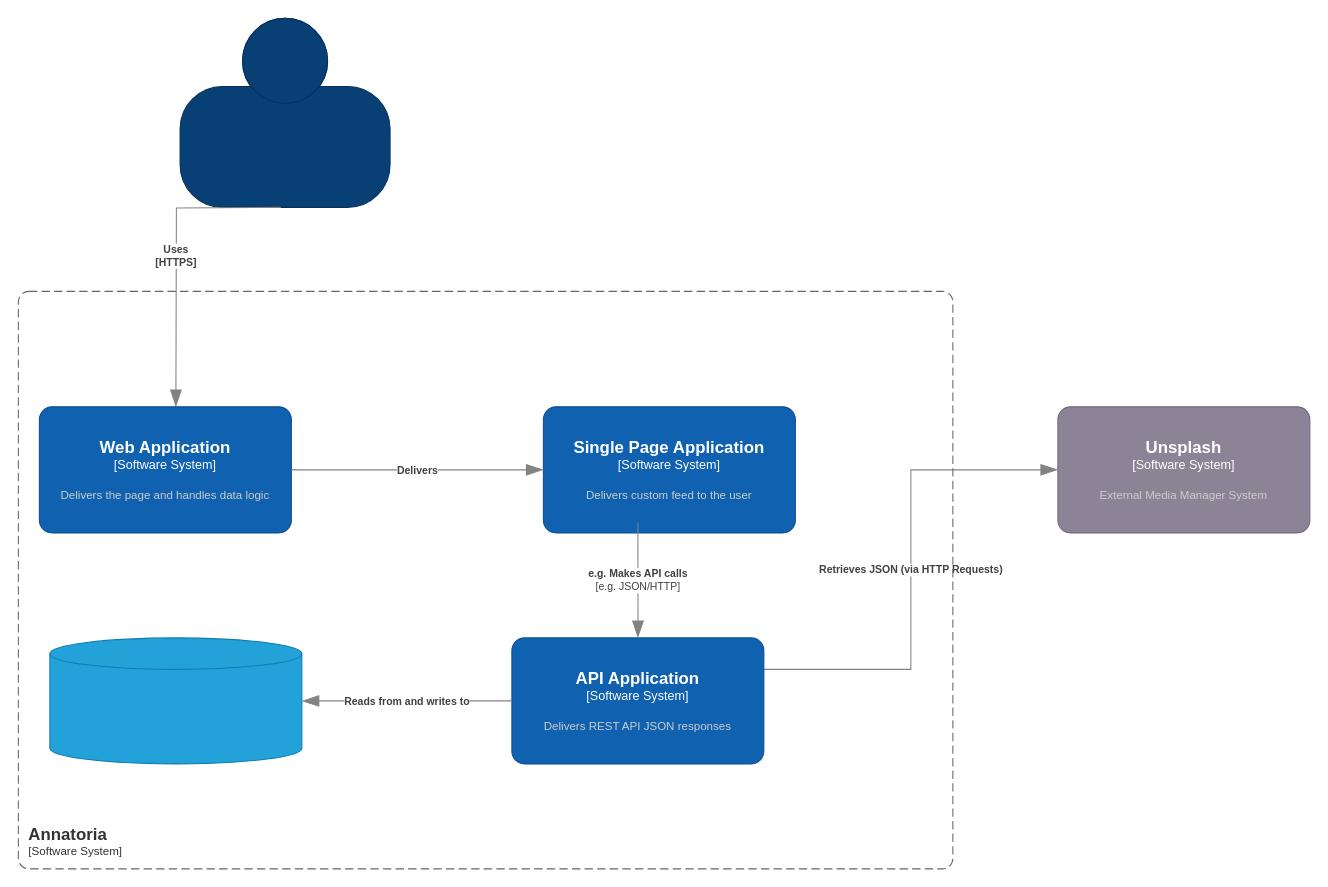
Some shapes in this 1328 by 887 pixel diagram are drawn without their labels. The box of each missing label's shape, as (x1, y1, x2, y2) in pixels:
Client [Person] Client that want to use Annatoria system: (179, 17, 390, 207)
Database [Container: Oracle Database 23ai] Stores data about accounts and media: (49, 637, 302, 764)
